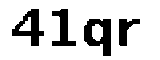1: (48, 6, 79, 49)
4: (9, 5, 46, 54)
q: (82, 14, 115, 60)
r: (116, 12, 145, 53)
